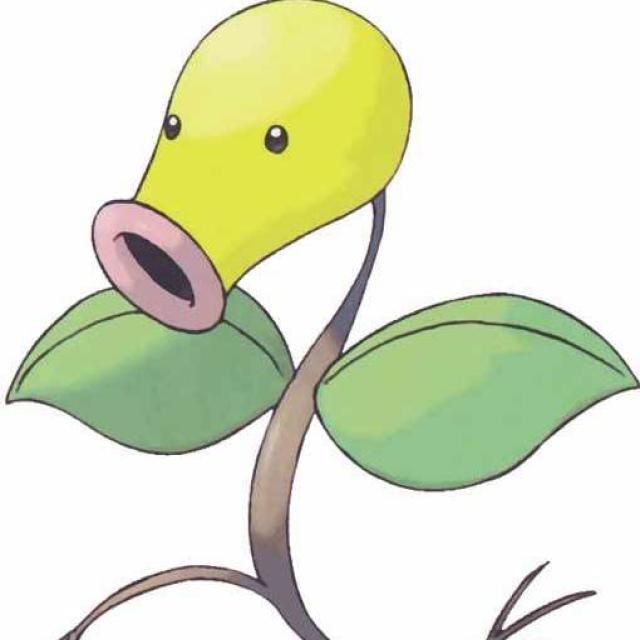Bellsprout: (92, 0, 425, 622)
